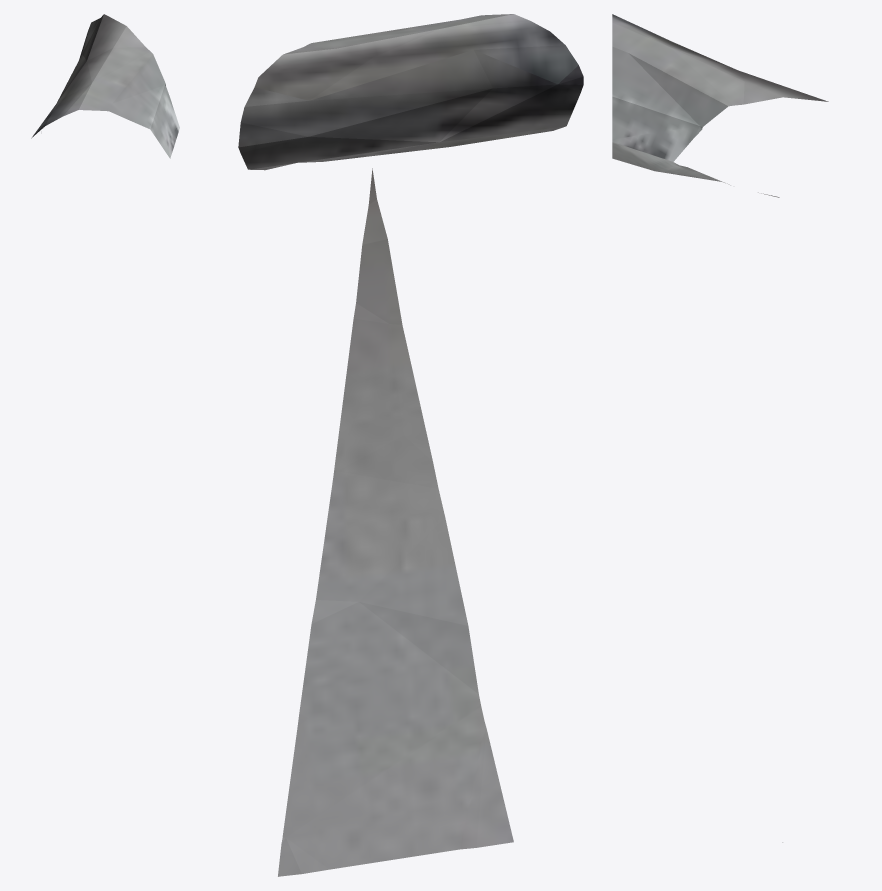
3 renders of one model, left to right at view 1: azimuth 30°, elevation 25°; view 2: azimuth 150°, elevation 25°; view 3: azimuth 270°, elevation 25°, orthographic. The views are drawn at different scales.
Size of the model in its own units: 0.1215 by 0.4555 by 0.1337.
Materials: 1 (1 with a texture image).
